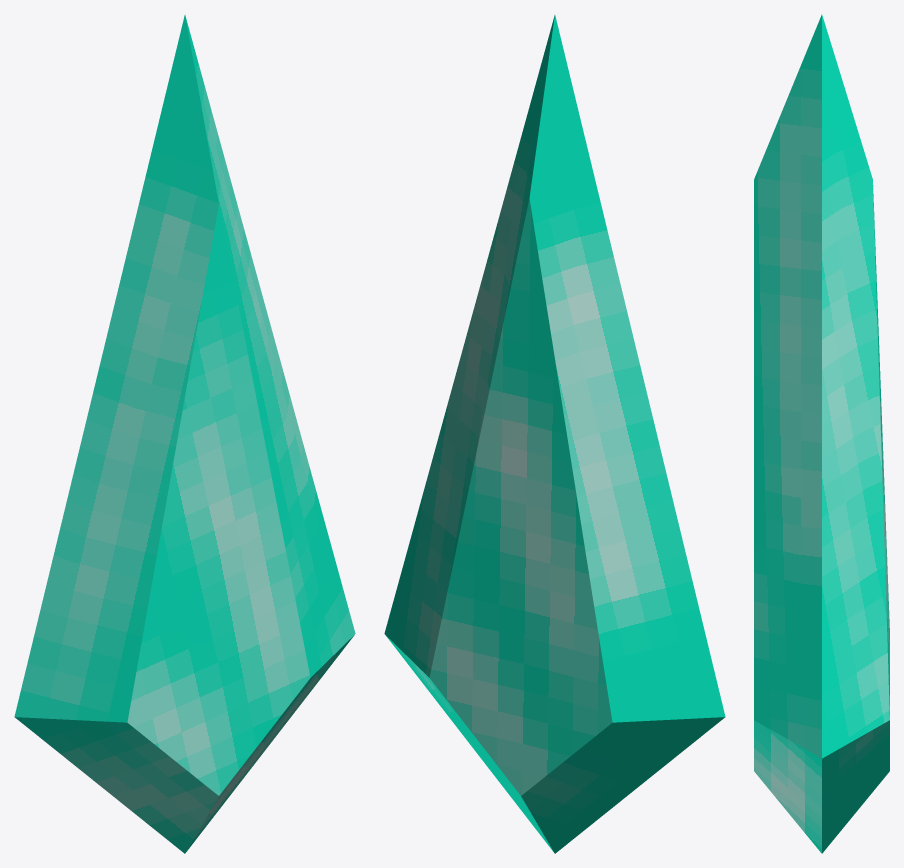
The model's file is shinygem.gltf.
The picture shows the model from 3 angles, left to right: view 1: azimuth 30°, elevation 25°; view 2: azimuth 150°, elevation 25°; view 3: azimuth 270°, elevation 25°; orthographic projection.
Visible parts, largest first — view 1: Gem 1; view 2: Gem 1; view 3: Gem 1.
Part boxes in pixels (x1=…): Gem 1: x1=14, y1=15, x2=355, y2=853; Gem 1: x1=384, y1=15, x2=725, y2=853; Gem 1: x1=754, y1=14, x2=889, y2=853.
Size of the model in its own units: 0.212 by 0.4988 by 0.0731.
Materials: 1 (1 with a texture image).
